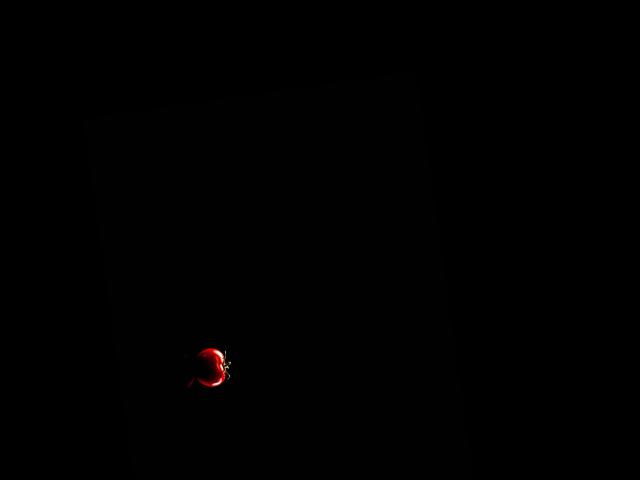tomato: (193, 346, 228, 388)
